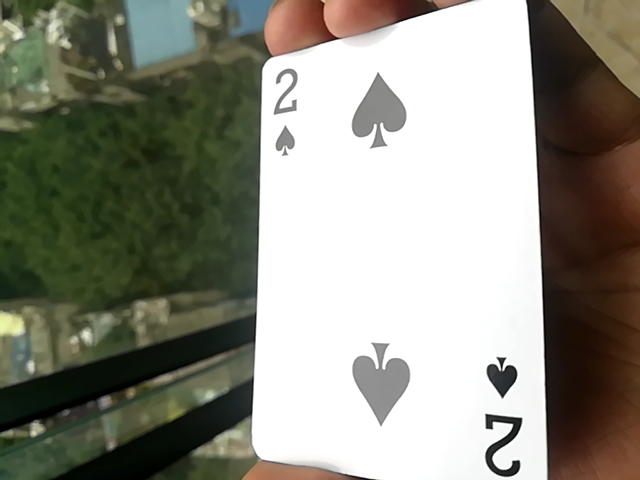ht 2: (251, 15, 561, 476)
